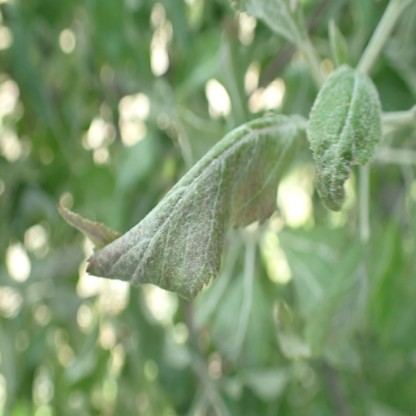powder: (86, 116, 309, 300), (306, 65, 383, 213), (57, 203, 120, 246), (232, 0, 298, 27)
